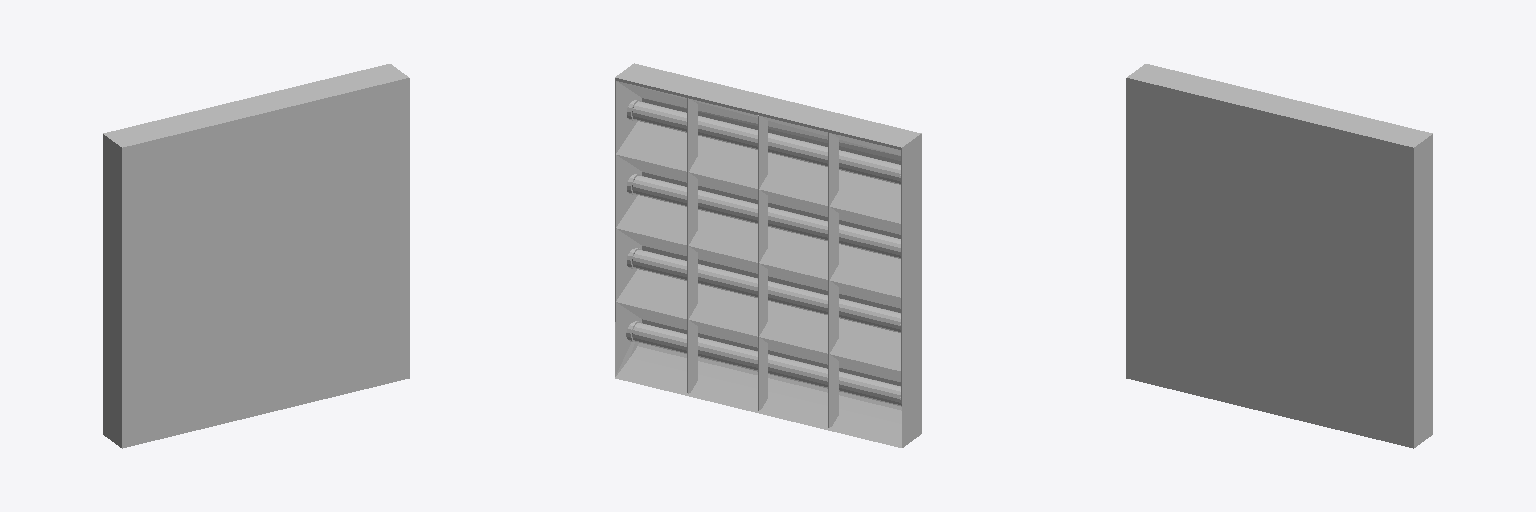
Rendered from 4栅格灯.obj.
The picture shows the model from 3 angles: view 1: azimuth 30°, elevation 25°; view 2: azimuth 150°, elevation 25°; view 3: azimuth 330°, elevation 25°; orthographic projection.
Parts seen in each view (by area): view 1: RenderStuff_Fluorescent_lamp_for_suspended_ceiling; view 2: RenderStuff_Fluorescent_lamp_for_suspended_ceiling; view 3: RenderStuff_Fluorescent_lamp_for_suspended_ceiling.
Boxes of the visible parts, x1=… form: RenderStuff_Fluorescent_lamp_for_suspended_ceiling: x1=103, y1=64, x2=409, y2=448; RenderStuff_Fluorescent_lamp_for_suspended_ceiling: x1=615, y1=63, x2=921, y2=447; RenderStuff_Fluorescent_lamp_for_suspended_ceiling: x1=1126, y1=64, x2=1432, y2=448.
Size of the model in its own units: 600 by 600 by 70.79.